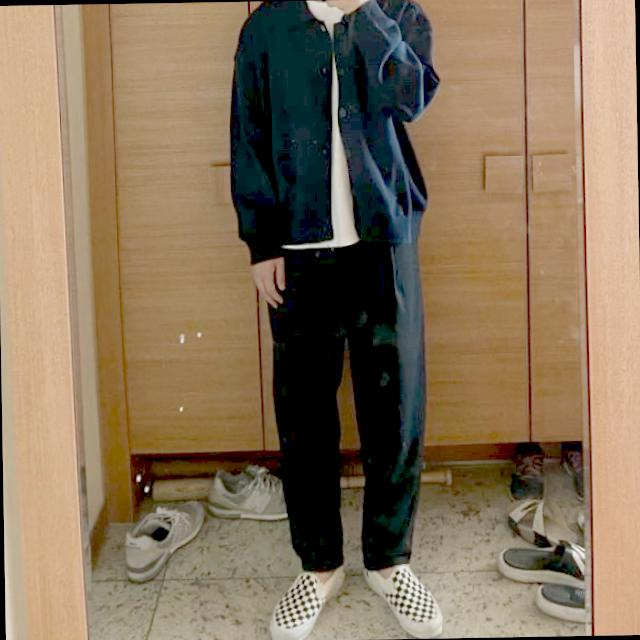cardigan: (227, 0, 440, 269)
slacks: (265, 236, 434, 574)
